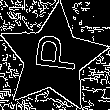P_W: (26, 37, 80, 80)
